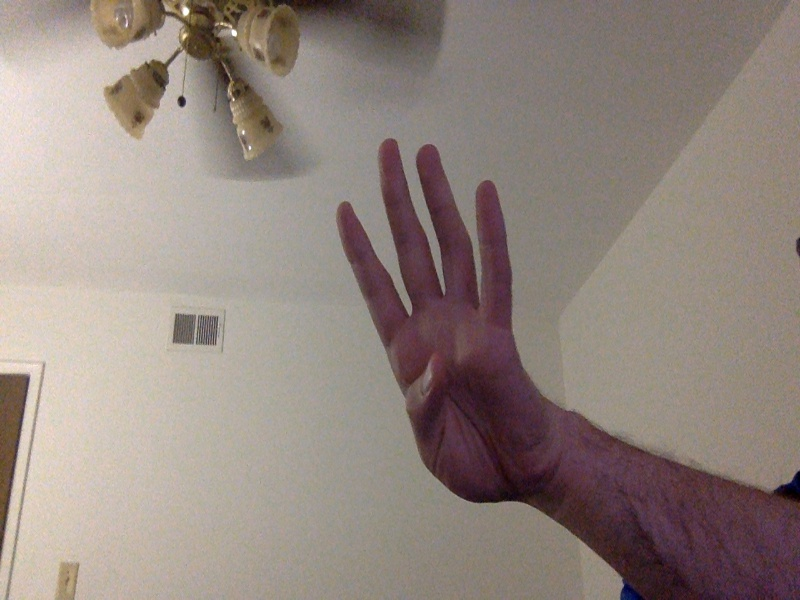4-hand: (335, 138, 551, 518)
